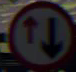Two way: (10, 5, 66, 62)
